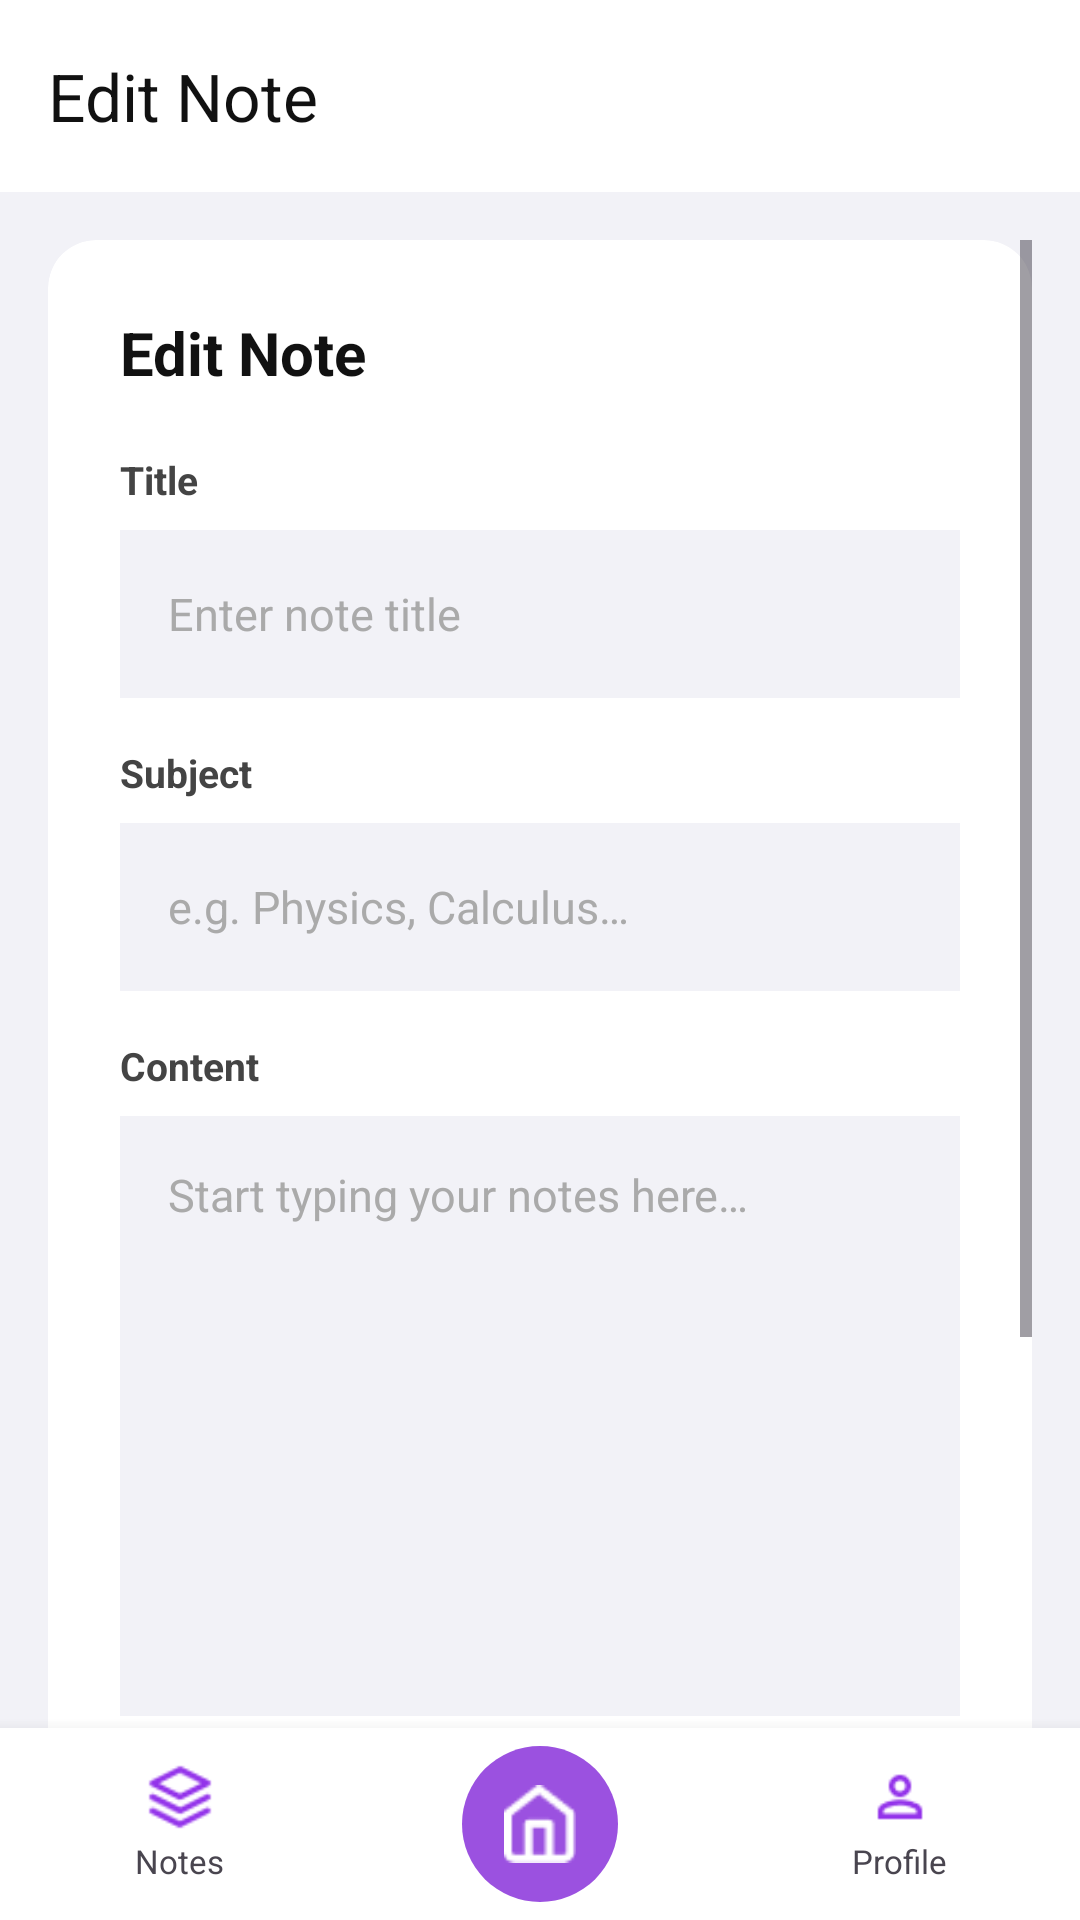

Icons on this 1080*1920 Android screen, each with its box as (left=x1, top=y1, right=x2, bottom=y2):
Dashboard: (left=504, top=1785, right=576, bottom=1863)
